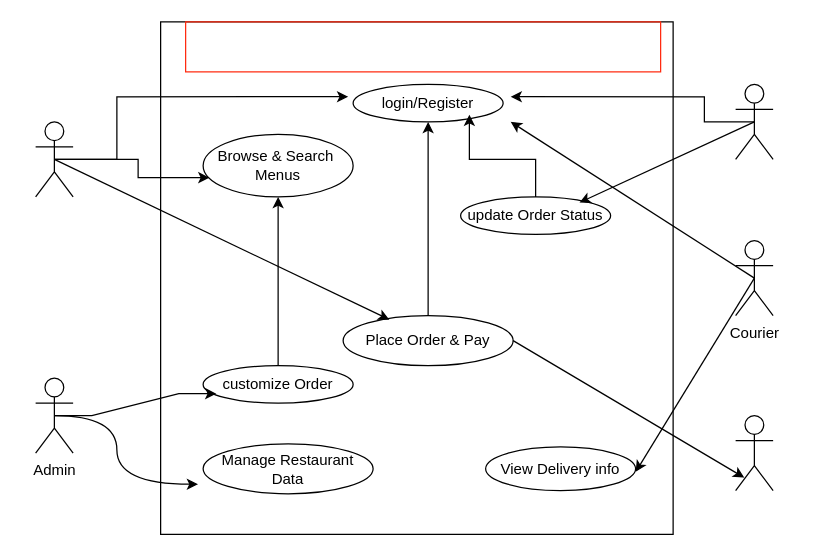
Image size: 838x556. Some labels were removed from this diagram. Here are the shapes that lost their labels. From the top down, the centre of each, then its label:
point (422, 46): Food Delivery Ordering System
point (753, 121): Restaurant Employee/Owner
point (53, 159): Customer
point (753, 452): payment Gateway
